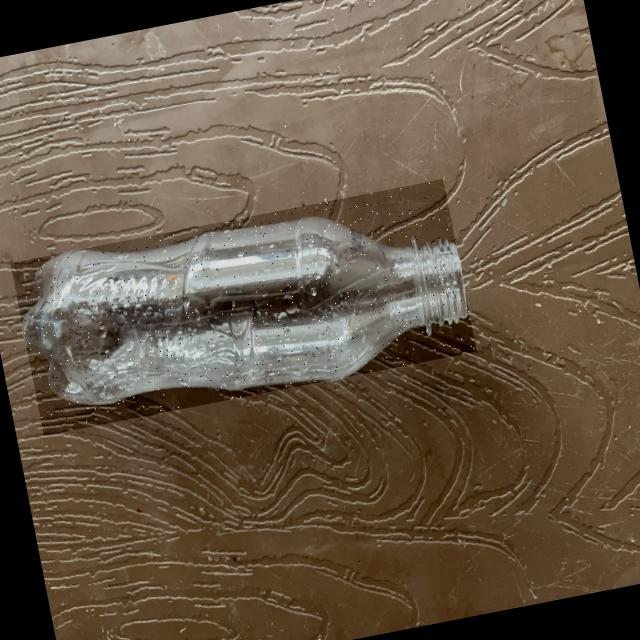PET_With_Liquid: (22, 217, 464, 403)
